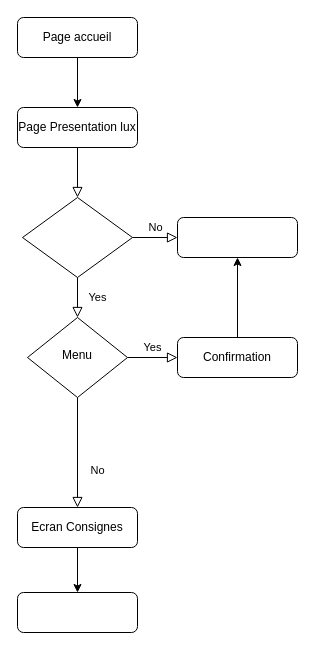
This 315x650 diagram has some shape labels left out. Each missing label, with the box of its shape:
Menu general: (176, 216, 298, 258)
Nouveau? Suivre le Guide?: (22, 196, 132, 278)
Scan document: (16, 592, 138, 632)
